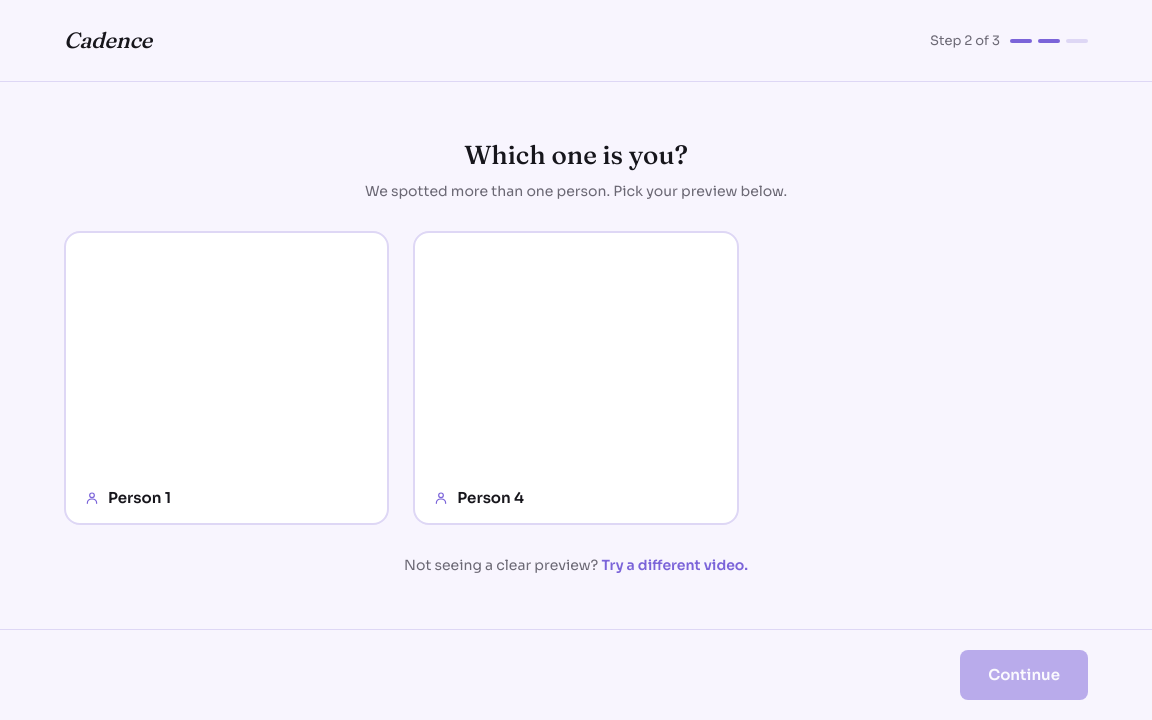
PickClient › shows the server's reason and lets them retry if locking fails
Expected: the text "Person 1" is shown, [108,486,171,509]
Click the button "Person 1": (136, 497) [64,230,389,525]
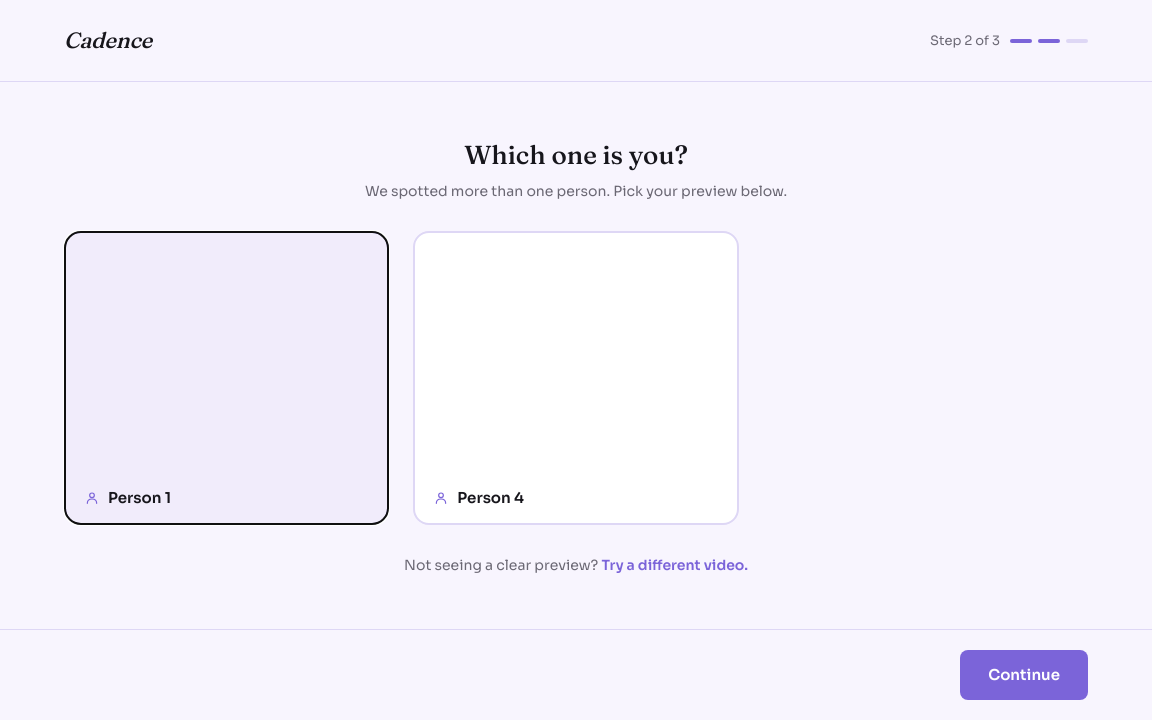
Click the button "Continue": (1024, 675) [960,650,1088,700]
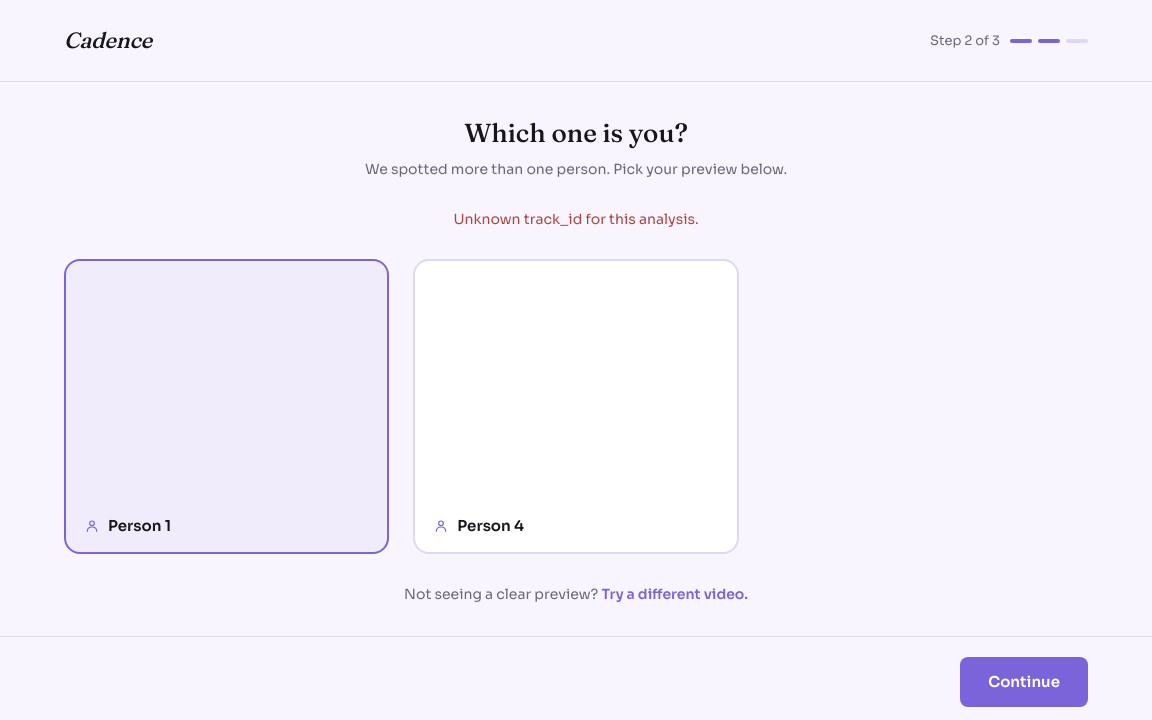
Now the button "Continue" is enabled, box [960,656,1088,707]
Now the text "Unknown track_id for this analysis." is shown, box [453,209,698,229]
